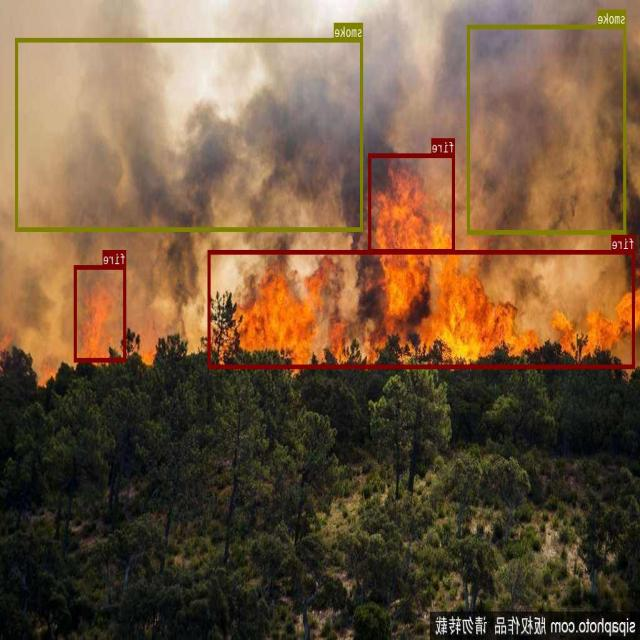fire: (208, 249, 636, 368), (369, 153, 455, 252), (75, 264, 126, 362)
smoke: (16, 38, 364, 230), (468, 24, 627, 233)
